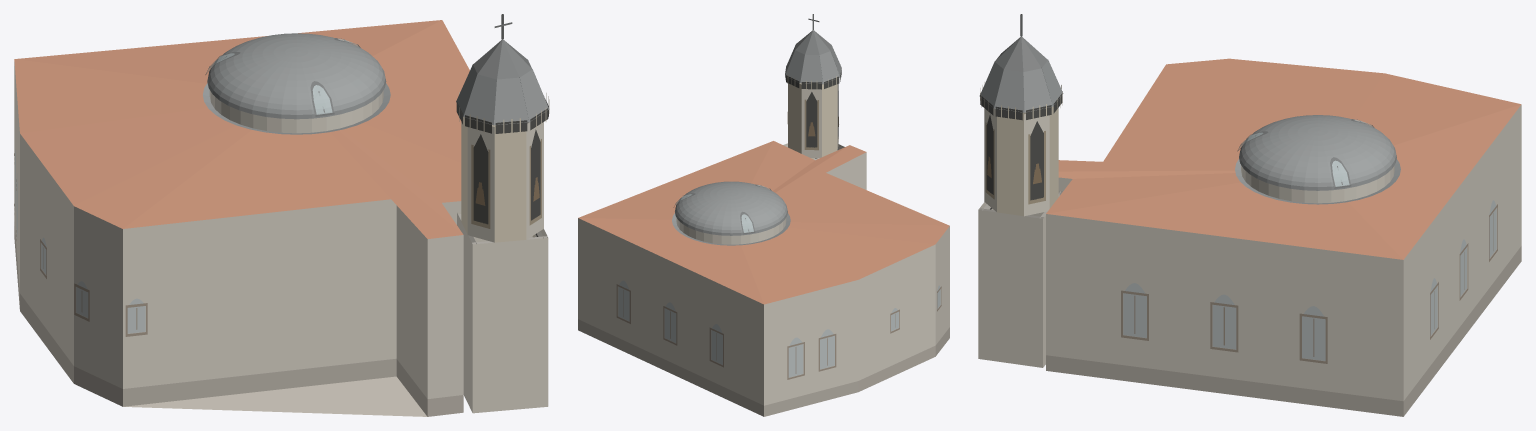
File: CHURCH.glb
The picture shows the model from 3 angles, left to right: view 1: azimuth 30°, elevation 25°; view 2: azimuth 150°, elevation 25°; view 3: azimuth 270°, elevation 25°; orthographic projection. The views are drawn at different scales.
Parts seen in each view (by area): view 1: CHURCH; view 2: CHURCH; view 3: CHURCH.
Part boxes in pixels (left/top/right/bottom): CHURCH: left=14, top=14, right=549, bottom=416; CHURCH: left=578, top=14, right=949, bottom=416; CHURCH: left=978, top=14, right=1521, bottom=416.
Size of the model in its own units: 22.04 by 17.08 by 25.09.
